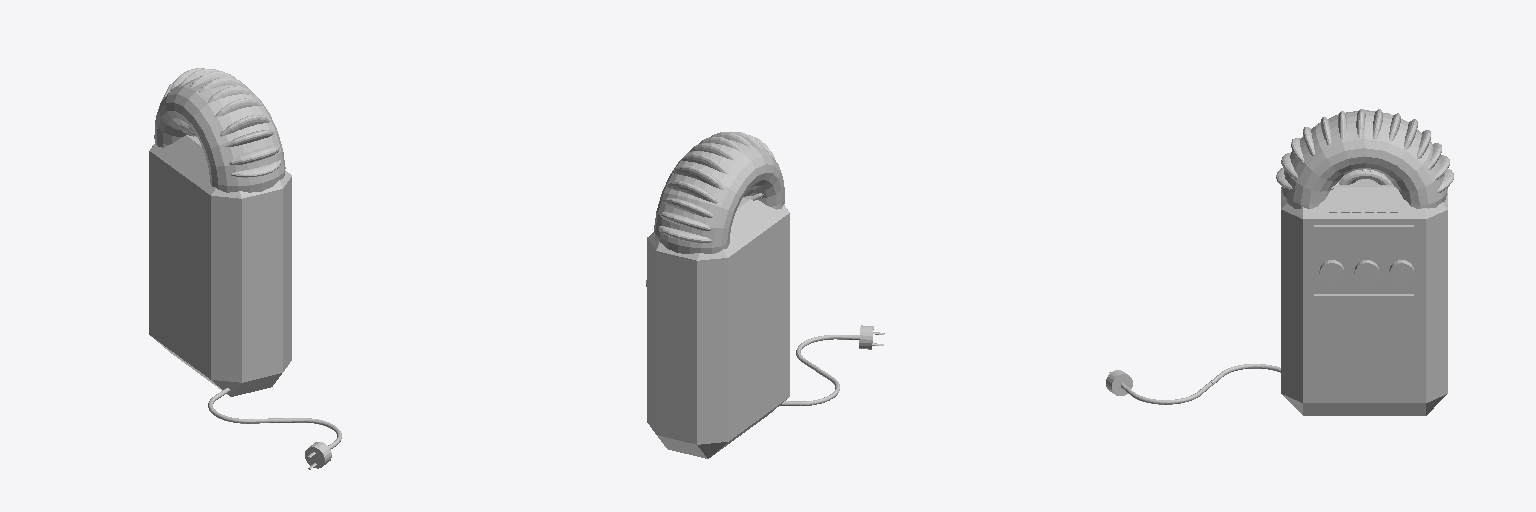
The picture shows the model from 3 angles: view 1: azimuth 30°, elevation 25°; view 2: azimuth 150°, elevation 25°; view 3: azimuth 270°, elevation 25°; orthographic projection.
Parts seen in each view (by area): view 1: pCube3, pasted__pTorus1 group, group26; view 2: pCube3, pasted__pTorus1 group, pasted__pasted__pasted__pasted__pasted__pasted__pasted__pasted__; view 3: pCube3, pCube2, pasted__pTorus1 group, pasted__pCube2 group23, pasted__pasted__pasted__pasted__pasted__pasted__pasted__pasted__, pCylinder1, pasted__pCylinder1 group1, pasted__pasted__pCylinder1 pasted__group1 group2.
Part boxes in pixels (left/top/right/bottom): pCube3: left=149, top=135, right=291, bottom=396; pasted__pTorus1 group: left=154, top=78, right=285, bottom=192; group26: left=305, top=442, right=331, bottom=469; pCube3: left=647, top=198, right=789, bottom=458; pasted__pTorus1 group: left=654, top=140, right=784, bottom=253; pasted__pasted__pasted__pasted__pasted__pasted__pasted__pasted__: left=658, top=181, right=717, bottom=242; pCube3: left=1281, top=179, right=1447, bottom=415; pCube2: left=1314, top=294, right=1413, bottom=391; pasted__pTorus1 group: left=1281, top=110, right=1447, bottom=208; pasted__pCube2 group23: left=1314, top=225, right=1413, bottom=250; pasted__pasted__pasted__pasted__pasted__pasted__pasted__pasted__: left=1417, top=130, right=1453, bottom=192; pCylinder1: left=1319, top=260, right=1344, bottom=285; pasted__pCylinder1 group1: left=1354, top=260, right=1379, bottom=285; pasted__pasted__pCylinder1 pasted__group1 group2: left=1389, top=260, right=1413, bottom=285.
Size of the model in its own units: 0.7576 by 1.95 by 2.09.